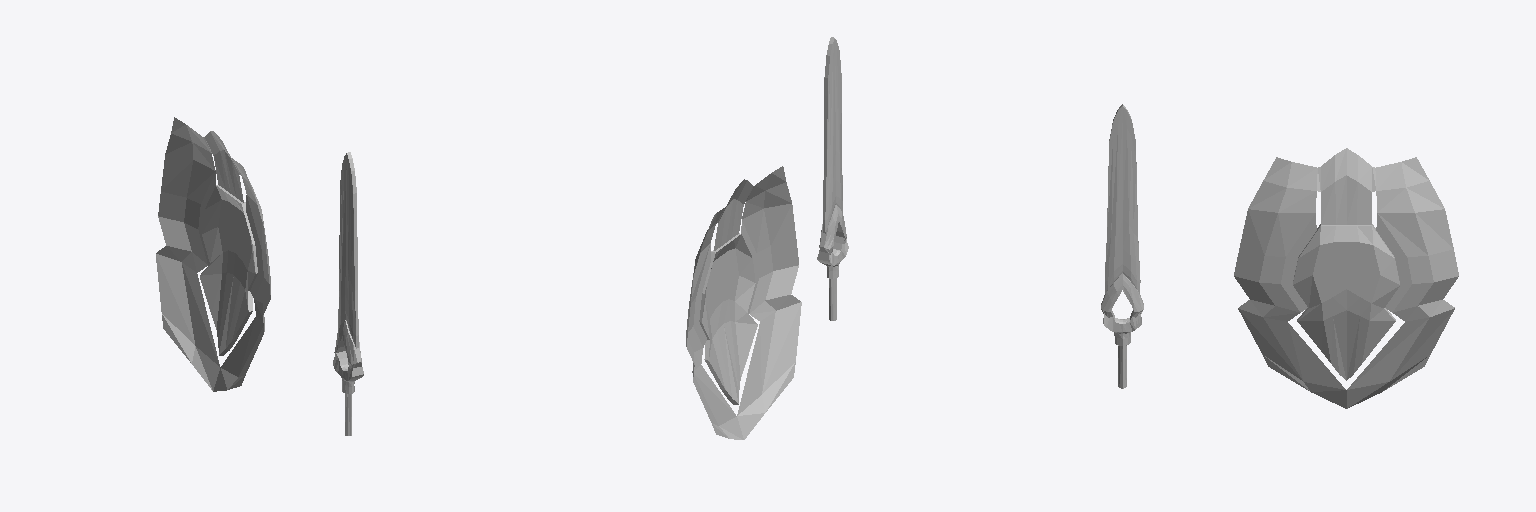
File: sword_shield.obj
The picture shows the model from 3 angles: view 1: azimuth 30°, elevation 25°; view 2: azimuth 150°, elevation 25°; view 3: azimuth 270°, elevation 25°; orthographic projection.
Visible parts, largest first — view 1: shield, blade, hilt; view 2: shield, blade, hilt; view 3: shield, blade, hilt.
Boxes of the visible parts, <box> form: shield: <box>156,117,270,391</box>; blade: <box>338,152,358,348</box>; hilt: <box>333,320,363,435</box>; shield: <box>686,166,801,439</box>; blade: <box>823,37,842,233</box>; hilt: <box>817,205,848,320</box>; shield: <box>1234,148,1458,408</box>; blade: <box>1105,104,1140,293</box>; hilt: <box>1101,273,1143,388</box>.
Size of the model in its own units: 15.51 by 115 by 119.